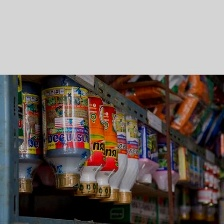insecticide: (38, 73, 93, 192), (0, 78, 46, 197), (61, 88, 108, 199), (76, 94, 121, 201), (89, 98, 131, 205), (103, 105, 142, 207), (146, 131, 181, 193), (130, 117, 161, 185)
